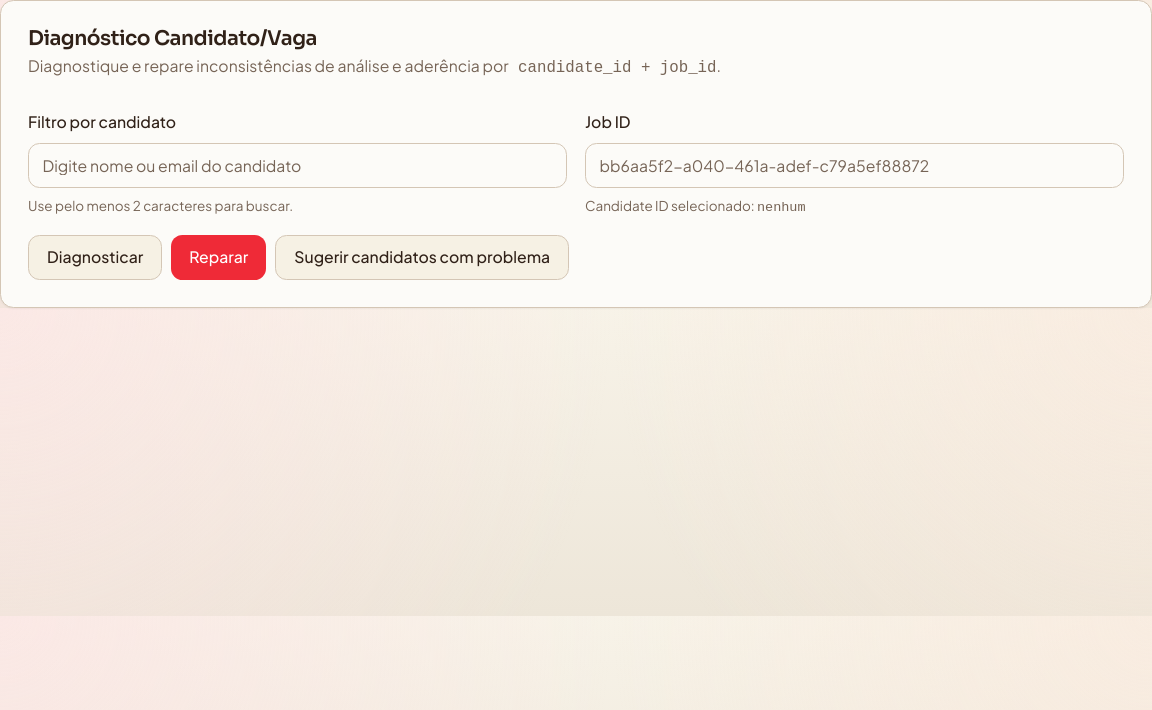
Test case: CandidateJobFlowDiagnosticsCard › exibe reason_code traduzido
Type "Alice" into the field labelled "Filtro por candidato" at (298, 165), box [28,142,567,188]
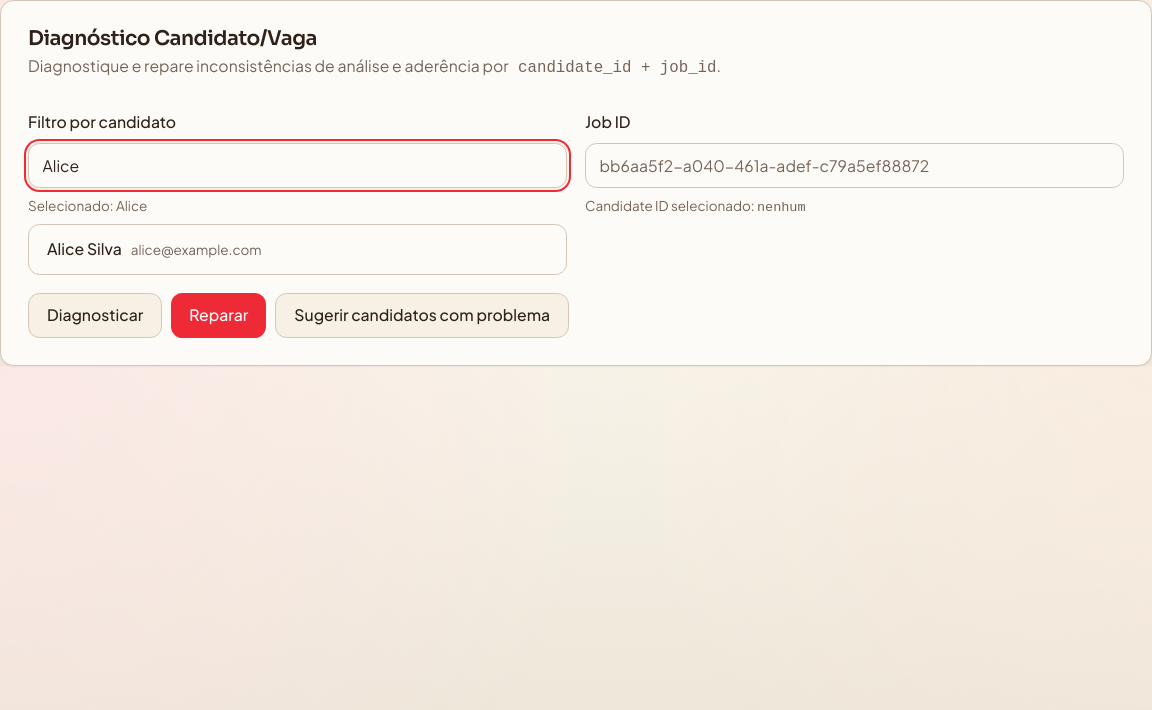
Click the button "Alice Silva" at (84, 248), box [38,234,557,265]
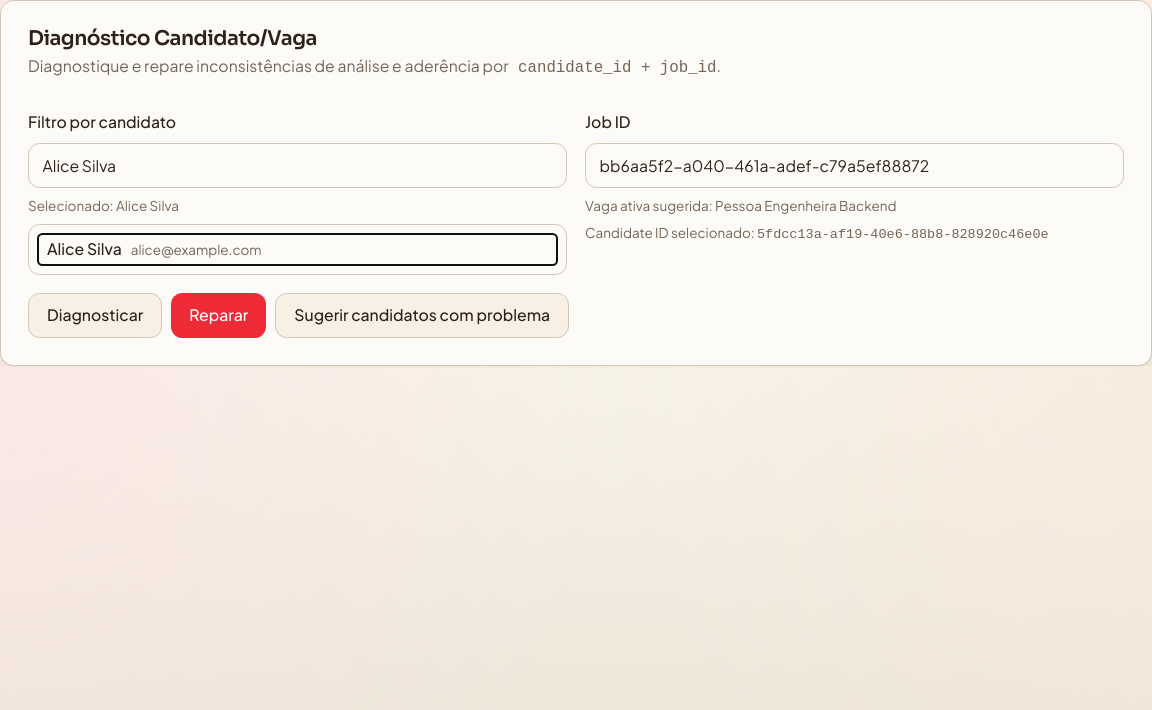
Result: the field labelled "Job ID" holds "bb6aa5f2-a040-461a-adef-c79a5ef88872" at [585,142,1124,188]
Click the button "Diagnosticar" at (95, 316), box [28,293,162,338]
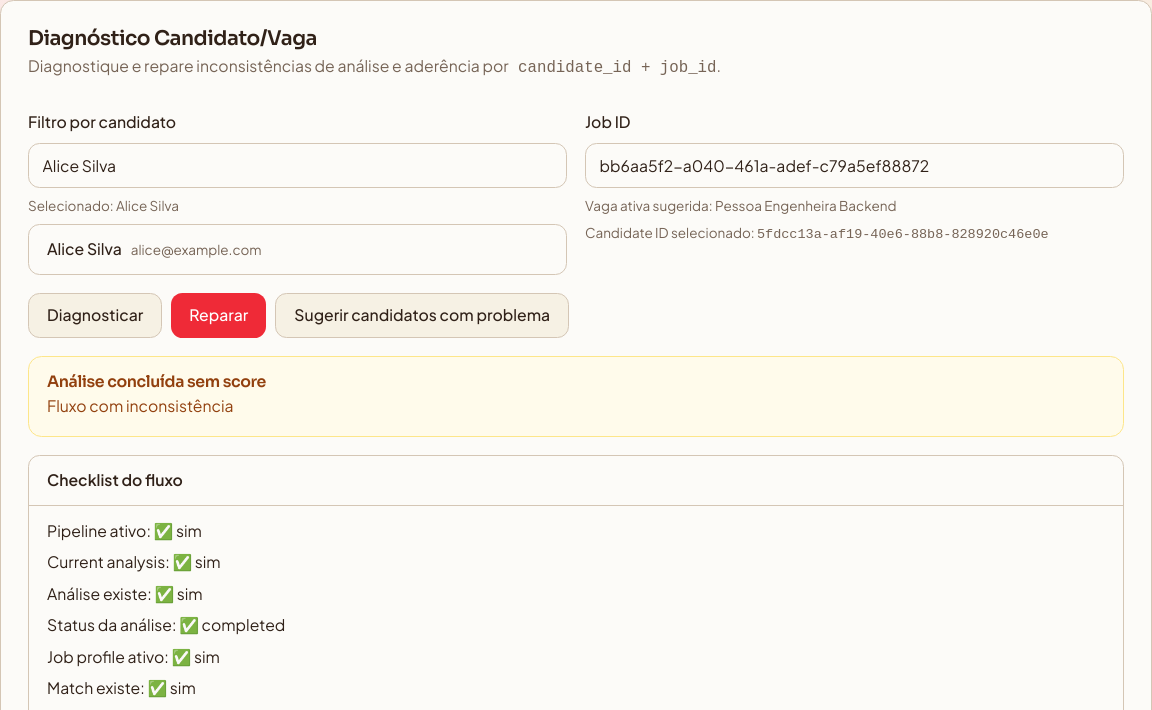
Result: the heading "Análise concluída sem score" is shown at [47,372,266,392]
Result: the text "Fluxo com inconsistência" is shown at [47,396,234,415]
